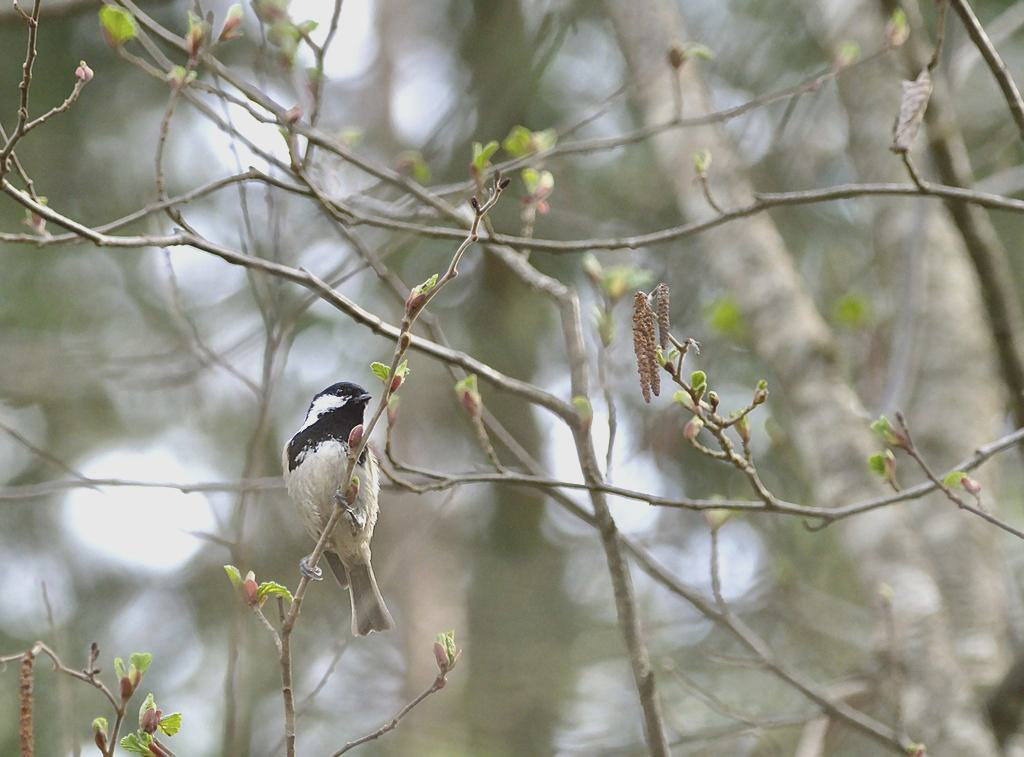PeriparusAter: (280, 379, 396, 639)
